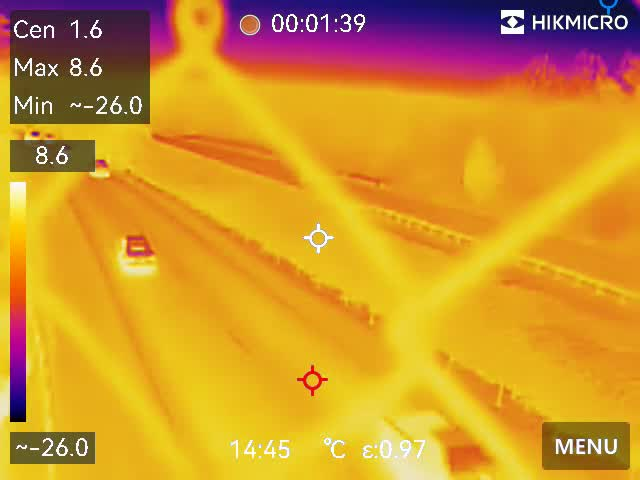vehicle: (120, 229, 160, 270), (90, 157, 116, 178)
